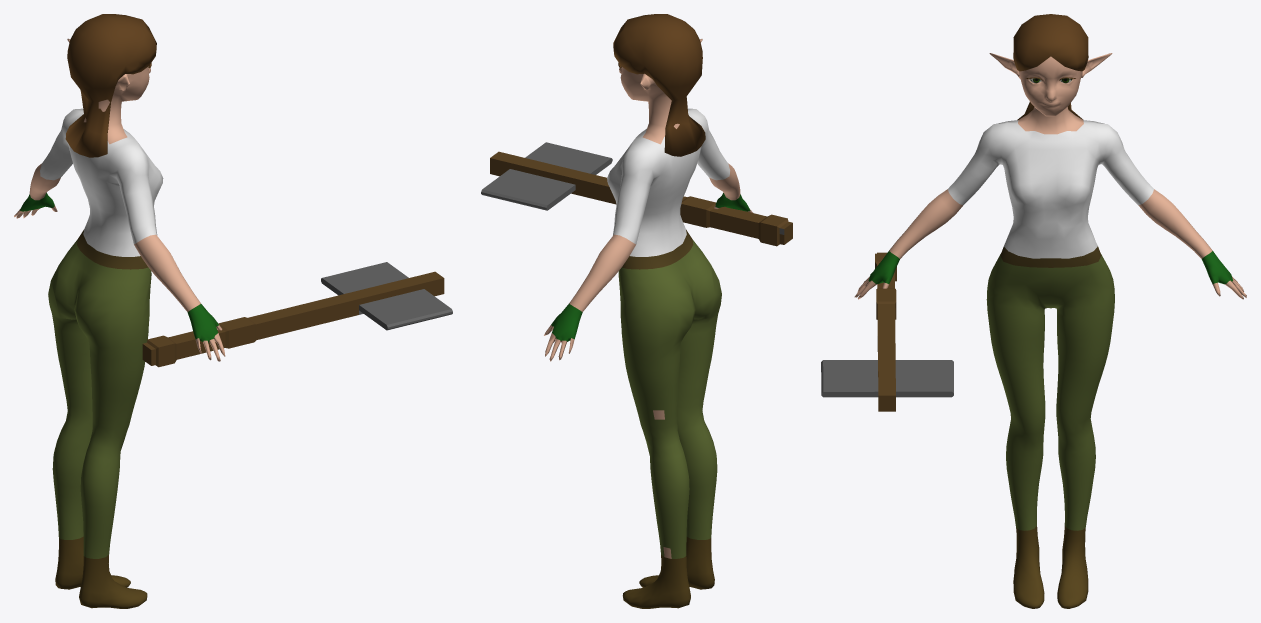
File: warrior_elf.glb
3 renders of one model, left to right at view 1: azimuth 30°, elevation 25°; view 2: azimuth 150°, elevation 25°; view 3: azimuth 270°, elevation 25°, orthographic.
Visible parts, largest first — view 1: body_LP_Plane.008, Cube, Sphere.002_Sphere.001; view 2: body_LP_Plane.008, Cube, Sphere.002_Sphere.001; view 3: body_LP_Plane.008, Cube, Sphere.002_Sphere.001.
Boxes of the visible parts, bbox=[...] form: body_LP_Plane.008: bbox=[14, 38, 225, 608]; Cube: bbox=[142, 262, 452, 367]; Sphere.002_Sphere.001: bbox=[65, 14, 156, 157]; body_LP_Plane.008: bbox=[544, 39, 752, 608]; Cube: bbox=[481, 142, 792, 246]; Sphere.002_Sphere.001: bbox=[613, 14, 705, 156]; body_LP_Plane.008: bbox=[854, 53, 1246, 608]; Cube: bbox=[821, 252, 953, 411]; Sphere.002_Sphere.001: bbox=[1013, 14, 1088, 119].
Bounding box in the file's own units: 3.75 × 7.09 × 4.72.
Materials: 10 (2 with a texture image).
